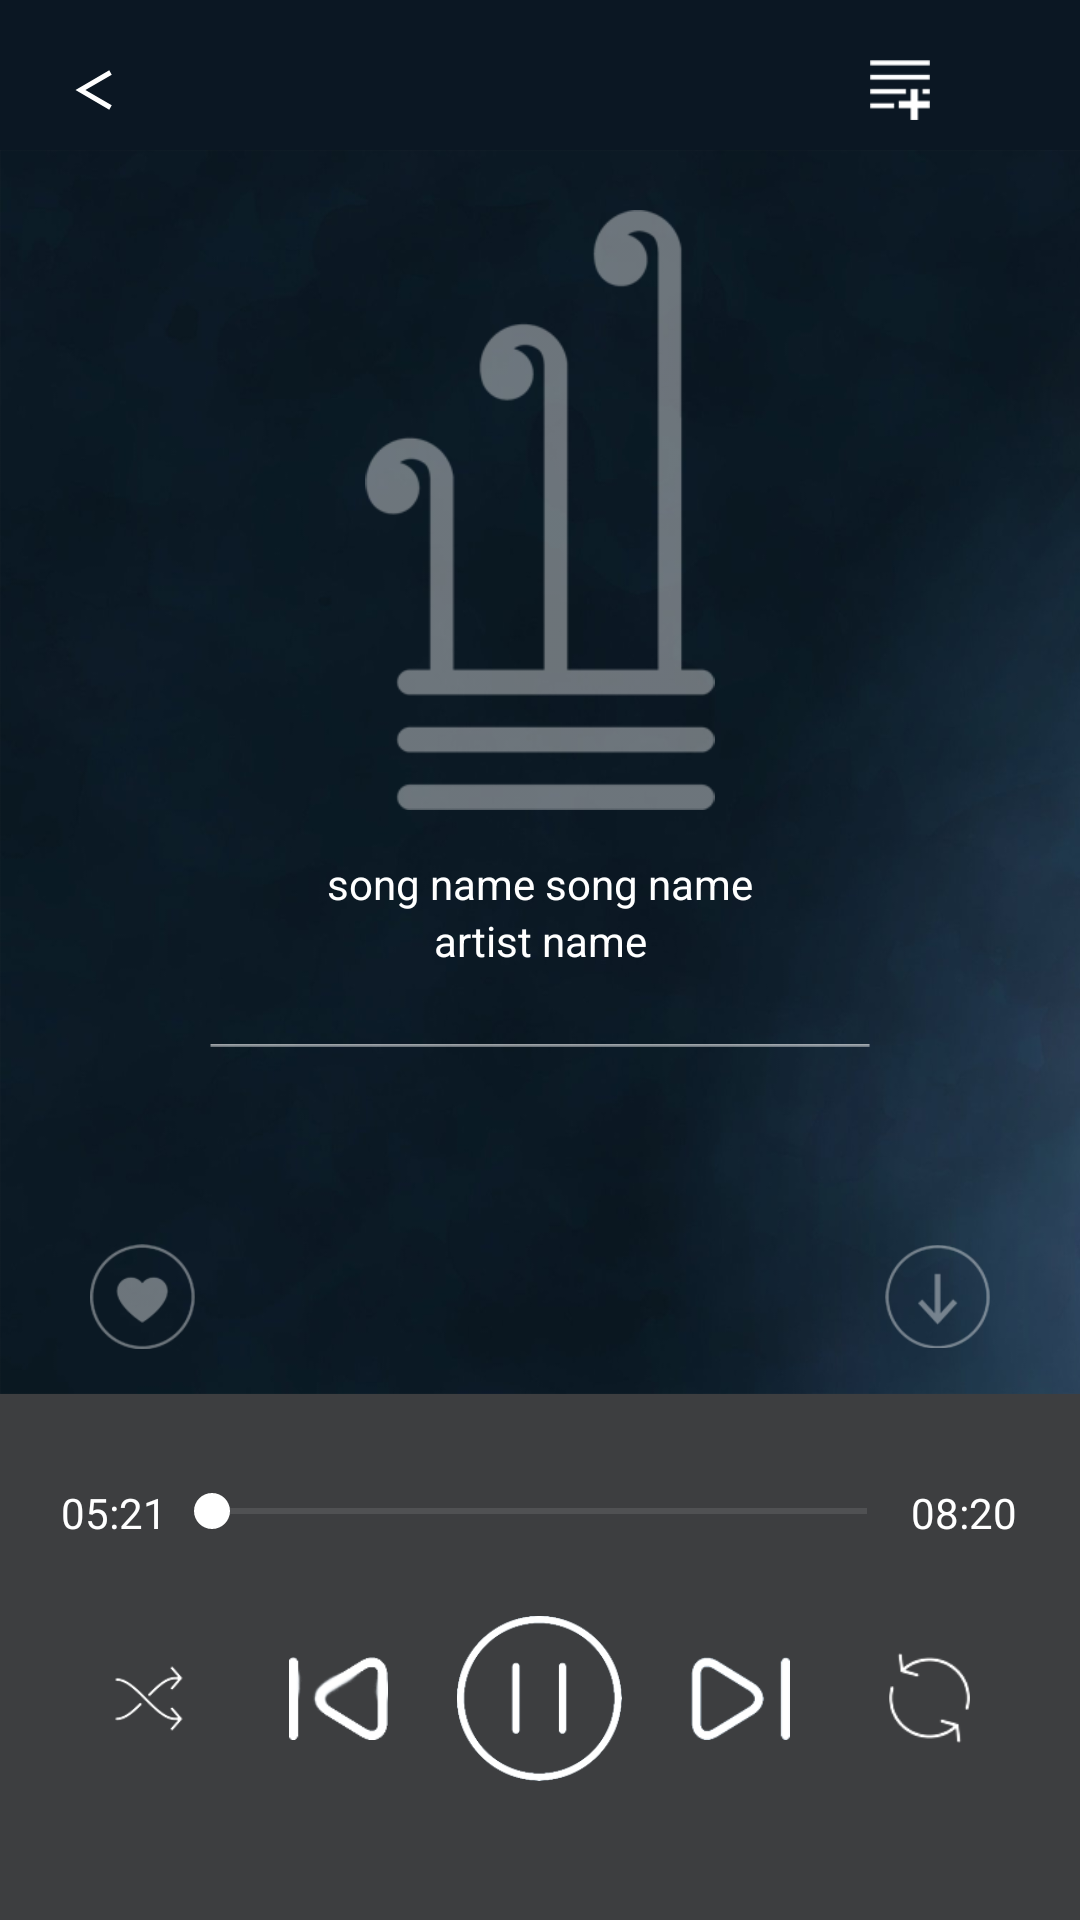

Icon bounding boxes for this 1080x1920 phone screenshot, format (x1, y1, x2, y2):
backwardwhite: (289, 1657, 388, 1740)
download: (885, 1244, 990, 1349)
fav: (90, 1244, 195, 1349)
less than: (76, 70, 112, 110)
nextwhite: (691, 1657, 790, 1740)
playwhite: (457, 1616, 622, 1781)
repeat: (889, 1653, 970, 1743)
suffle: (115, 1666, 183, 1731)
